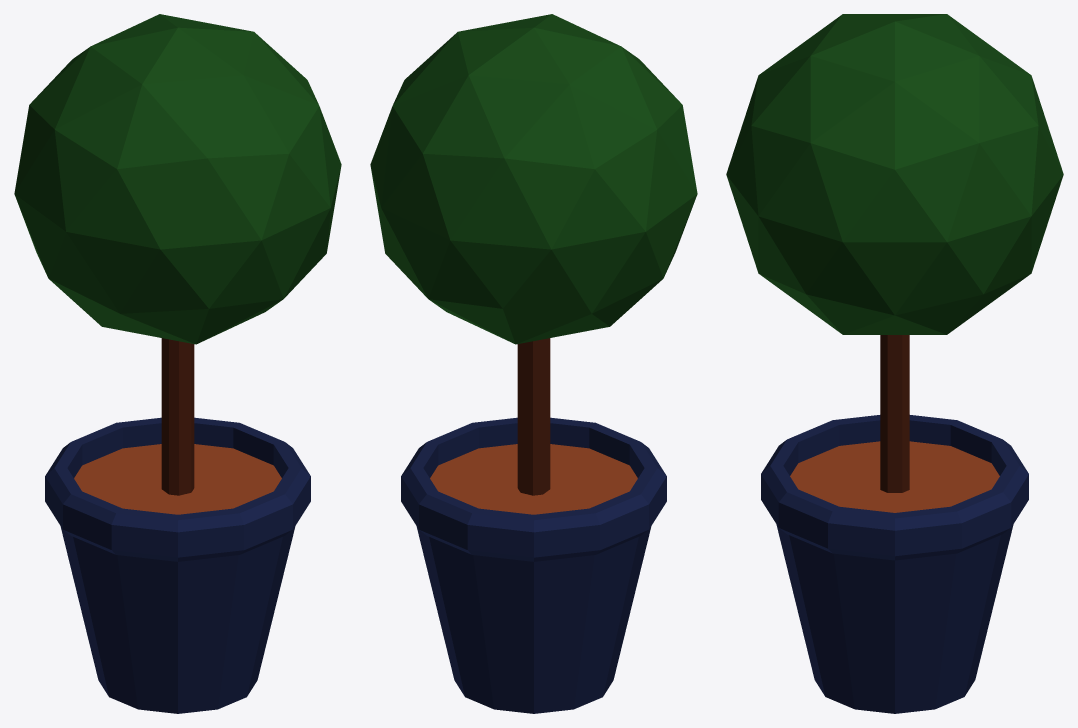
The model's file is hh_plant.glb.
The picture shows the model from 3 angles, left to right: view 1: azimuth 30°, elevation 25°; view 2: azimuth 150°, elevation 25°; view 3: azimuth 270°, elevation 25°; orthographic projection.
Parts seen in each view (by area): view 1: Plant_A; view 2: Plant_A; view 3: Plant_A.
Part boxes in pixels (x1,y1,x2,y2): Plant_A: [14, 14, 341, 713]; Plant_A: [370, 14, 697, 713]; Plant_A: [726, 14, 1063, 713].
Bounding box in the file's own units: 0.5236 × 1.18 × 0.5505.
